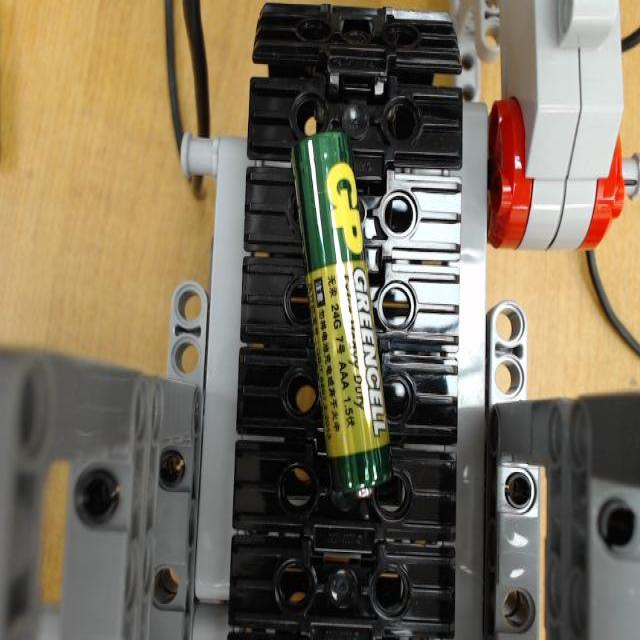AAA: (288, 131, 394, 510)
